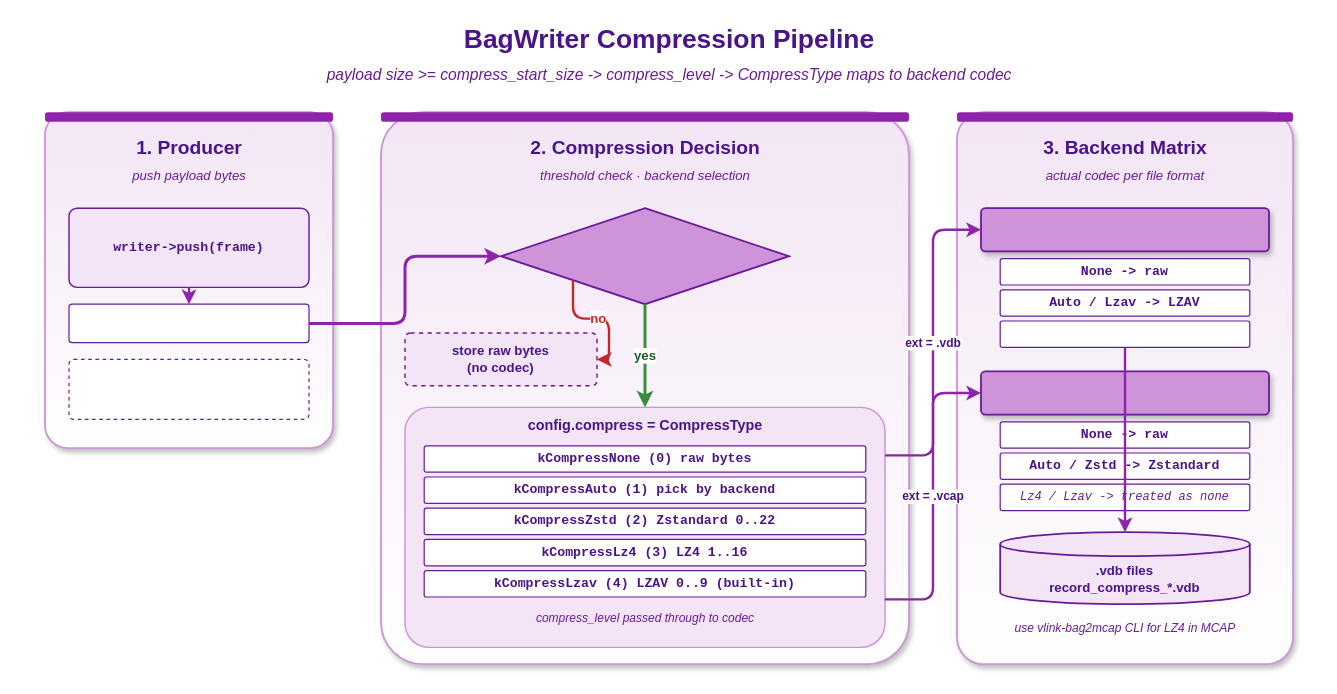
Image size: 1337x694. Some labels were removed from this diagram. Here are the shapes that lost their labels. From the top down, the centre of each, then its label:
At point 1126,231: ".vdb (SQLite, VDBWriter)".
At point 644,256: "N >= compress_start_size (default 128, demo 64)".
At point 188,323: "payload size N bytes".
At point 1124,333: "Zstd / Lz4 -> treated as none".
At point 188,388: "ignore_compress_urls optional bypass set".
At point 1126,394: ".vcap / .vcapx (MCAP, VCAPWriter)".
